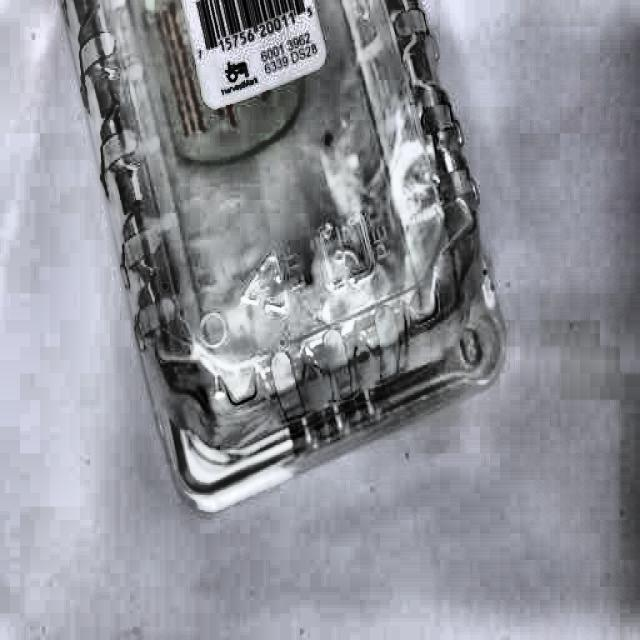plastic: (57, 0, 507, 518)
